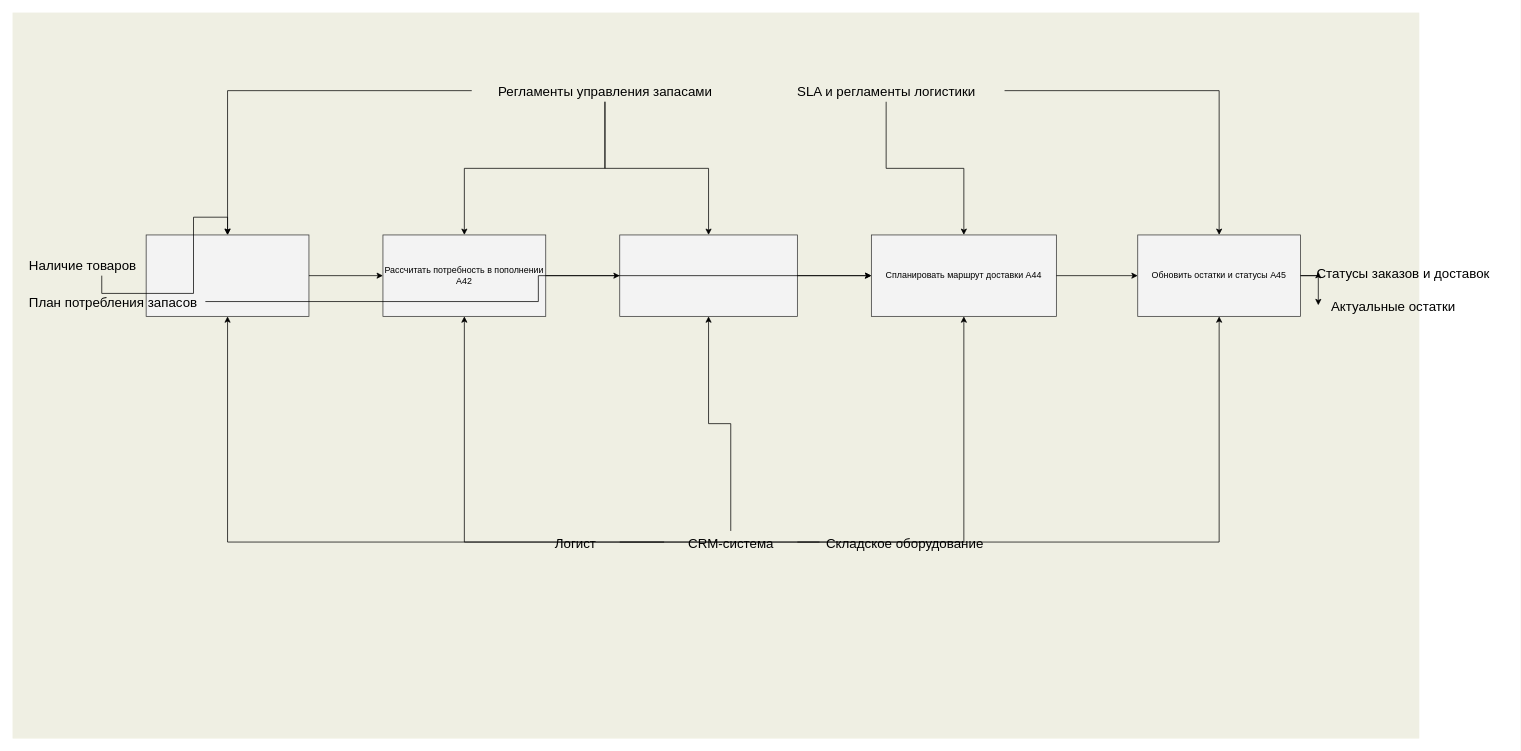
The diagram is 1521 pixels wide and 751 high, and some of its shapes have lost their labels. Here are the shapes that lost their labels. From the top down, the box of each, then its label:
(145, 234, 309, 316): Проверить наличие запасов A41
(619, 234, 797, 316): Сформировать заказ поставщику A43
